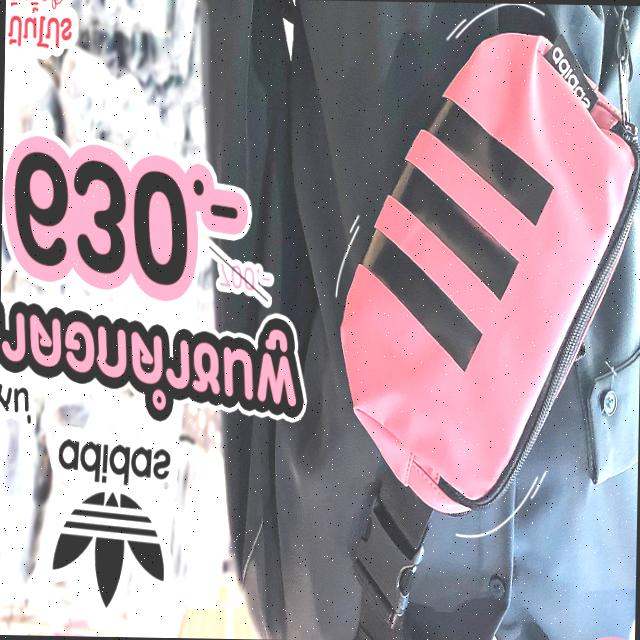Handbag: (334, 0, 640, 498)
